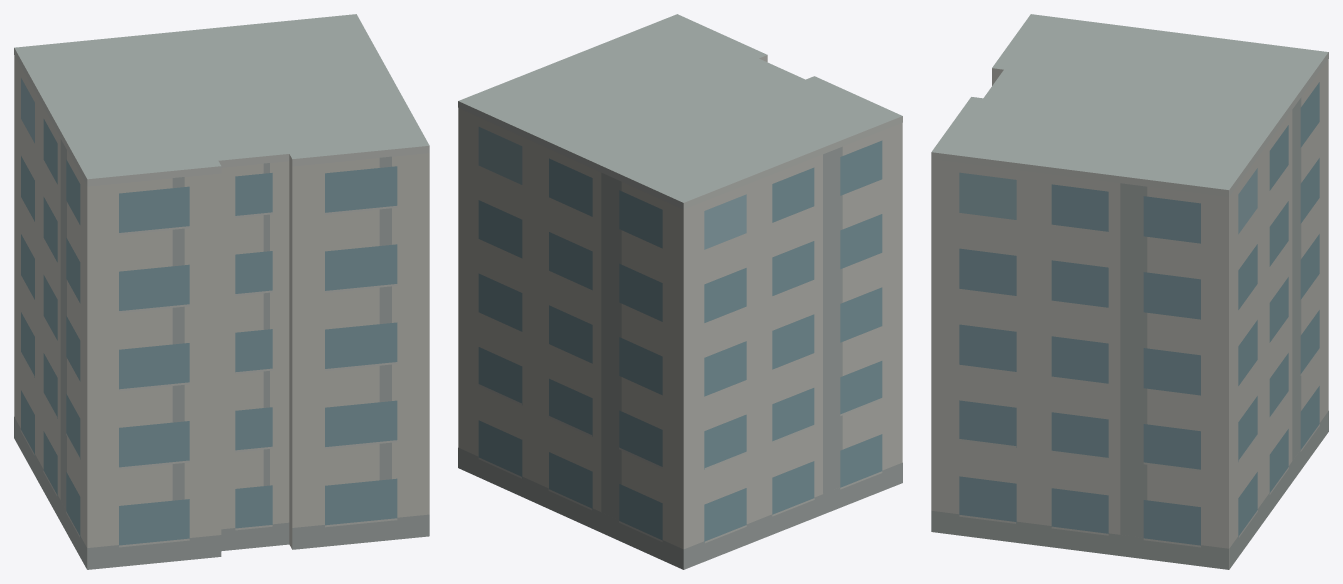
File: survey-upis-32950179.glb
3 renders of one model, left to right at view 1: azimuth 30°, elevation 25°; view 2: azimuth 150°, elevation 25°; view 3: azimuth 270°, elevation 25°, orthographic. The views are drawn at different scales.
Parts seen in each view (by area): view 1: survey-upis-32950179.tmp; view 2: survey-upis-32950179.tmp; view 3: survey-upis-32950179.tmp.
Boxes of the visible parts, x1,y1,x2,y2 form: survey-upis-32950179.tmp: (14,14,429,569); survey-upis-32950179.tmp: (458,14,902,569); survey-upis-32950179.tmp: (931,14,1328,569).
Bounding box in the file's own units: 13.24 × 13.3 × 12.63.
